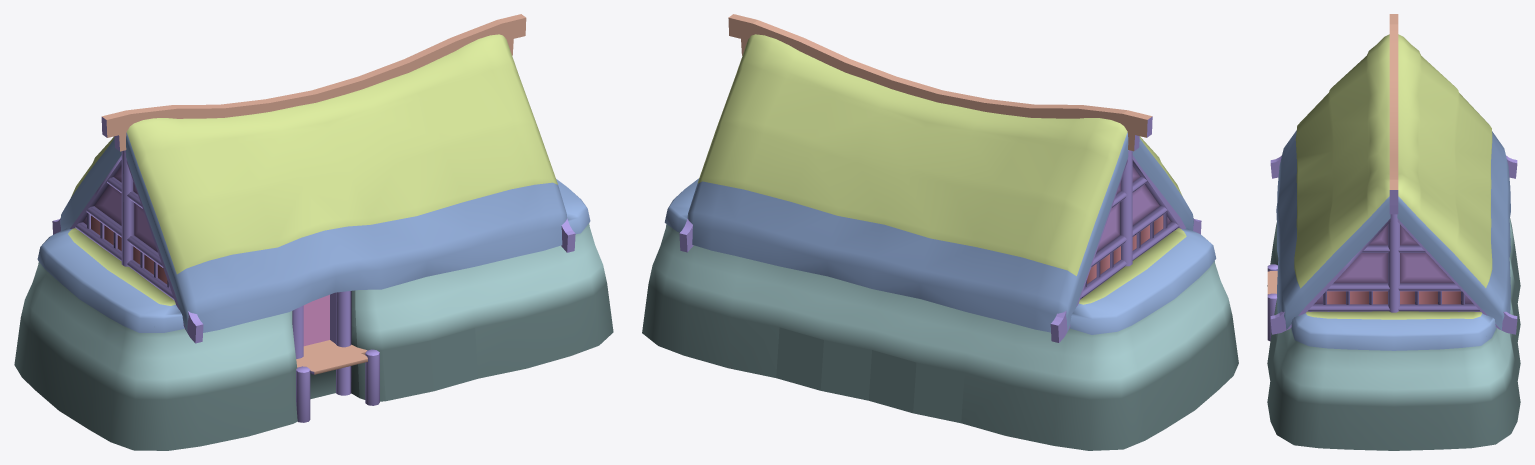
File: farmhouse.fbx
3 renders of one model, left to right at view 1: azimuth 30°, elevation 25°; view 2: azimuth 150°, elevation 25°; view 3: azimuth 270°, elevation 25°, orthographic. The views are drawn at different scales.
Parts seen in each view (by area): view 1: Farmhouse01:1, Farmhouse01:25, Farmhouse01:4, Farmhouse01:5, Farmhouse01:19, Farmhouse01:6, Farmhouse01:7, Farmhouse01:14; view 2: Farmhouse01:1, Farmhouse01:25, Farmhouse01:4, Farmhouse01:19, Farmhouse01:5, Farmhouse01:6, Farmhouse01:14; view 3: Farmhouse01:25, Farmhouse01:1, Farmhouse01:4, Farmhouse01:5, Farmhouse01:6, Farmhouse01:19, Farmhouse01:14.
Boxes of the visible parts, left/top/right/bottom form: Farmhouse01:1: left=14, top=223, right=613, bottom=450; Farmhouse01:25: left=68, top=34, right=557, bottom=305; Farmhouse01:4: left=37, top=132, right=590, bottom=332; Farmhouse01:5: left=52, top=117, right=575, bottom=422; Farmhouse01:19: left=102, top=14, right=526, bottom=374; Farmhouse01:6: left=83, top=166, right=157, bottom=252; Farmhouse01:7: left=303, top=294, right=329, bottom=346; Farmhouse01:14: left=91, top=215, right=167, bottom=284; Farmhouse01:1: left=642, top=224, right=1238, bottom=450; Farmhouse01:25: left=697, top=34, right=1186, bottom=304; Farmhouse01:4: left=664, top=132, right=1216, bottom=334; Farmhouse01:19: left=728, top=14, right=1152, bottom=151; Farmhouse01:5: left=679, top=116, right=1201, bottom=342; Farmhouse01:6: left=1096, top=166, right=1170, bottom=251; Farmhouse01:14: left=1087, top=215, right=1163, bottom=283; Farmhouse01:25: left=1294, top=34, right=1492, bottom=319; Farmhouse01:1: left=1267, top=218, right=1520, bottom=450; Farmhouse01:4: left=1276, top=130, right=1510, bottom=350; Farmhouse01:5: left=1267, top=155, right=1517, bottom=340; Farmhouse01:6: left=1315, top=224, right=1472, bottom=303; Farmhouse01:19: left=1267, top=14, right=1398, bottom=294; Farmhouse01:14: left=1327, top=291, right=1460, bottom=304.
Bounding box in the file's own units: 140950 × 74400 × 70550.
